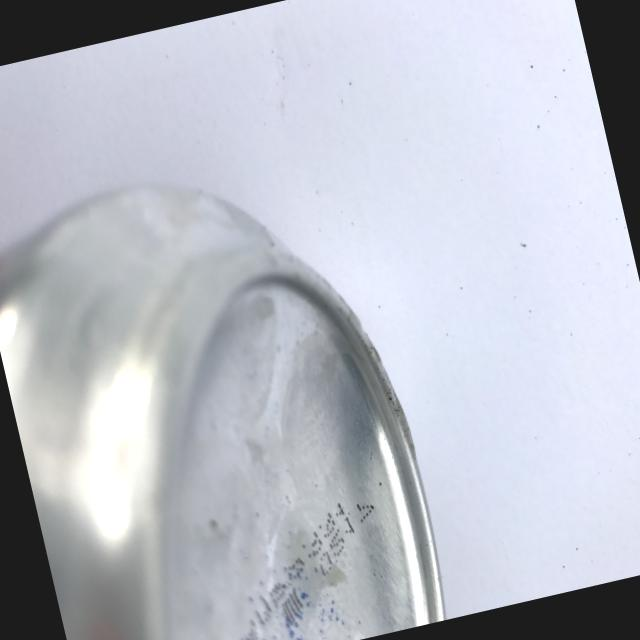Metal: (0, 104, 472, 640)
